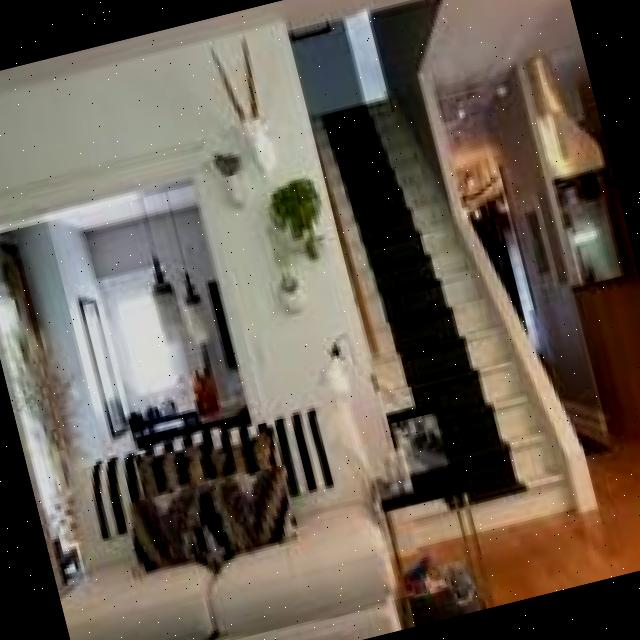stairs: (247, 11, 599, 555)
